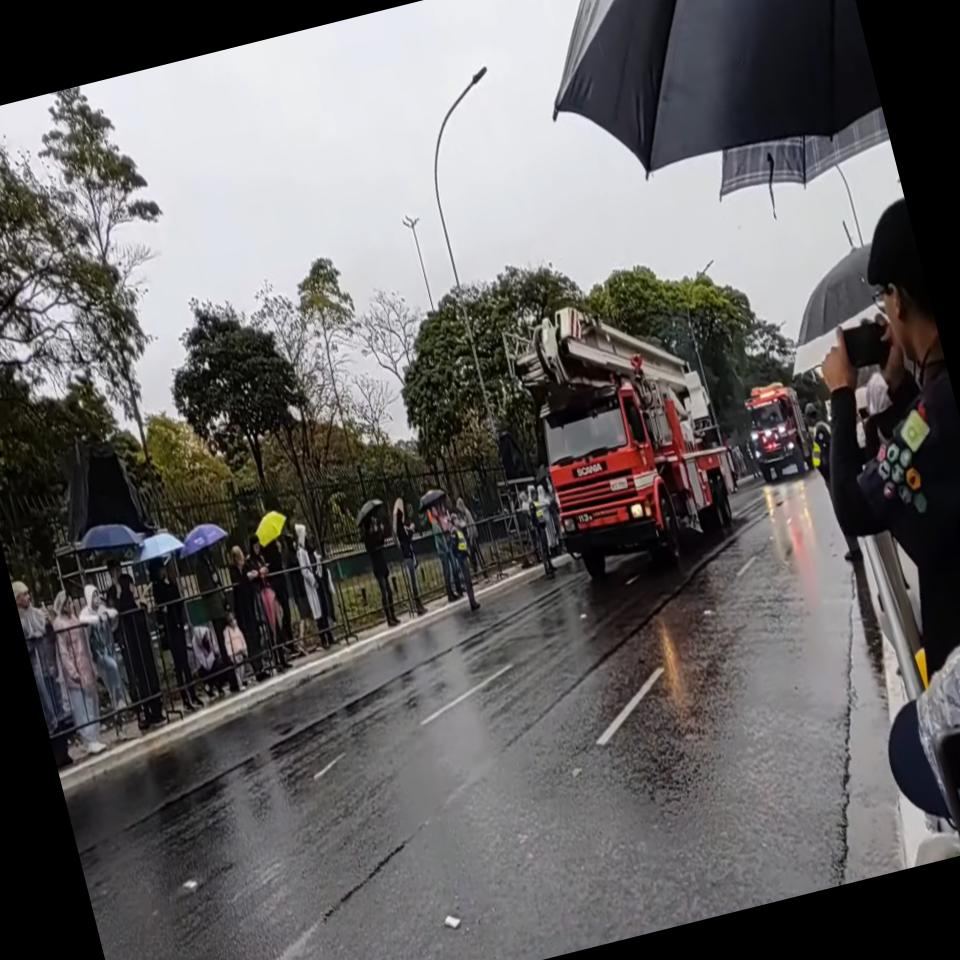viatura: (498, 276, 749, 593), (736, 374, 819, 484)
